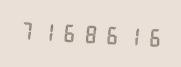eight: (80, 19, 100, 47)
one: (38, 17, 58, 45), (122, 21, 142, 49)
seven: (17, 16, 37, 44)
six: (59, 18, 79, 46), (101, 20, 121, 48), (143, 22, 163, 50)
